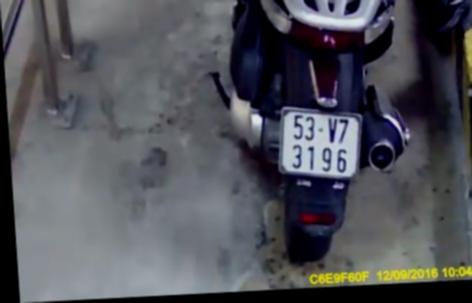License_Plate: (267, 97, 372, 193)
